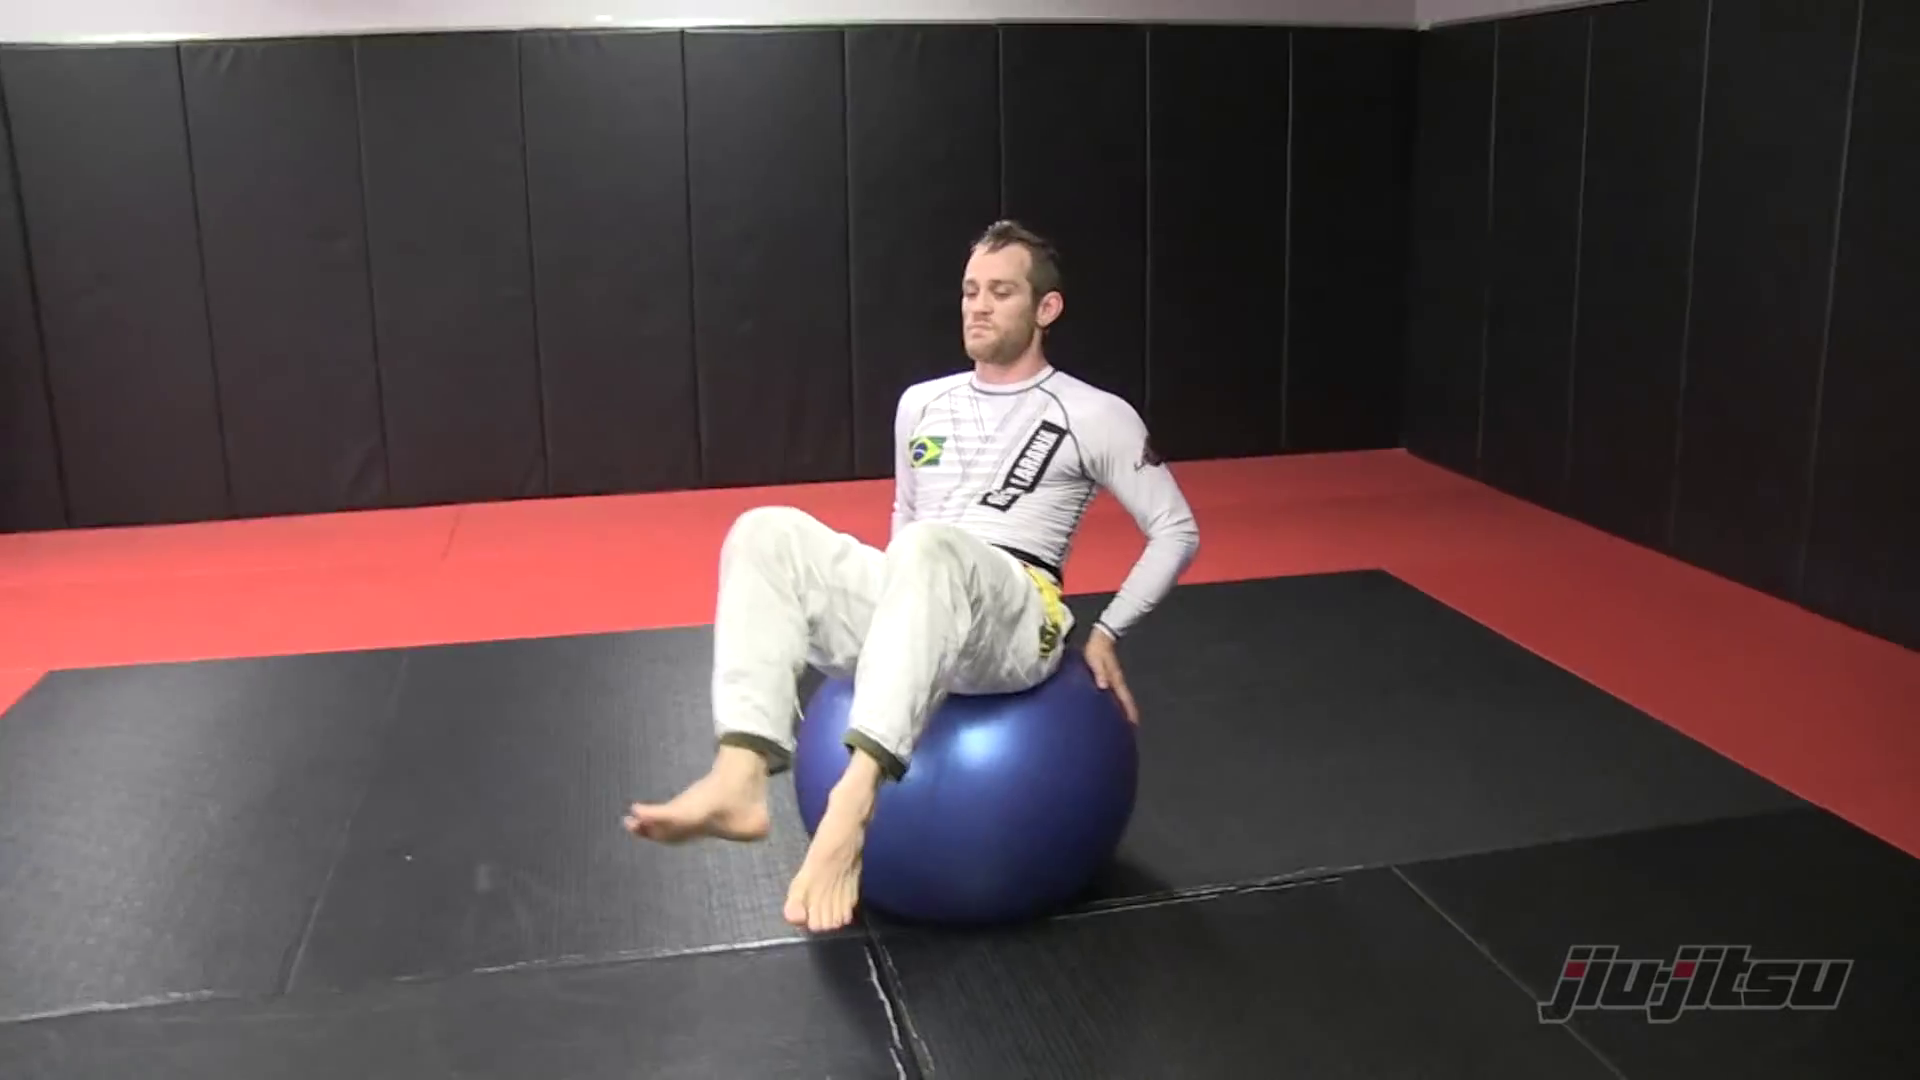yogaball: (775, 608, 1168, 942)
